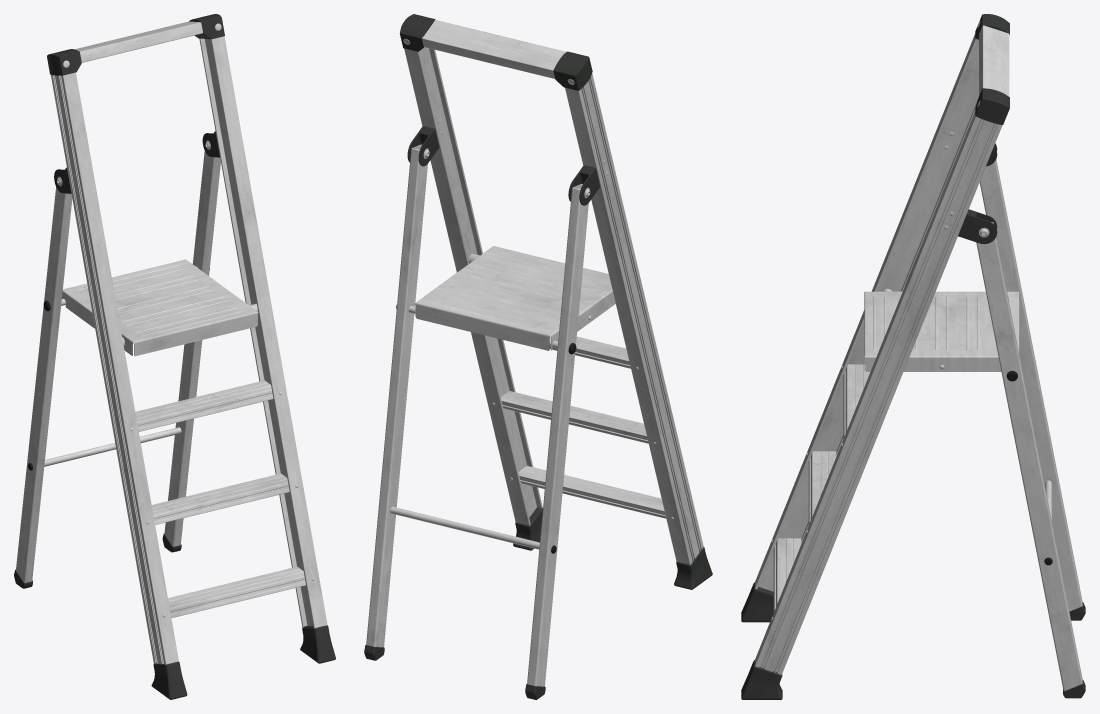
Rendered from ladder_step_aluminium_c03.glb.
3 renders of one model, left to right at view 1: azimuth 30°, elevation 25°; view 2: azimuth 150°, elevation 25°; view 3: azimuth 270°, elevation 25°, orthographic. The views are drawn at different scales.
Parts seen in each view (by area): view 1: sm_mainladder_c03_mesh_00, sm_sideladder_c03_mesh_00, sm_shelf_c03_mesh_00; view 2: sm_mainladder_c03_mesh_00, sm_sideladder_c03_mesh_00, sm_shelf_c03_mesh_00; view 3: sm_mainladder_c03_mesh_00, sm_sideladder_c03_mesh_00, sm_shelf_c03_mesh_00.
Boxes of the visible parts, x1,y1,x2,y2 form: sm_mainladder_c03_mesh_00: [47, 14, 335, 699]; sm_sideladder_c03_mesh_00: [14, 151, 220, 588]; sm_shelf_c03_mesh_00: [62, 259, 258, 356]; sm_mainladder_c03_mesh_00: [399, 14, 712, 589]; sm_sideladder_c03_mesh_00: [364, 144, 588, 699]; sm_shelf_c03_mesh_00: [415, 246, 615, 350]; sm_mainladder_c03_mesh_00: [741, 14, 1009, 699]; sm_sideladder_c03_mesh_00: [976, 159, 1085, 698]; sm_shelf_c03_mesh_00: [864, 288, 1019, 371].
Size of the model in its own units: 0.5051 by 1.62 by 0.844.
Materials: 3 (2 with a texture image).
